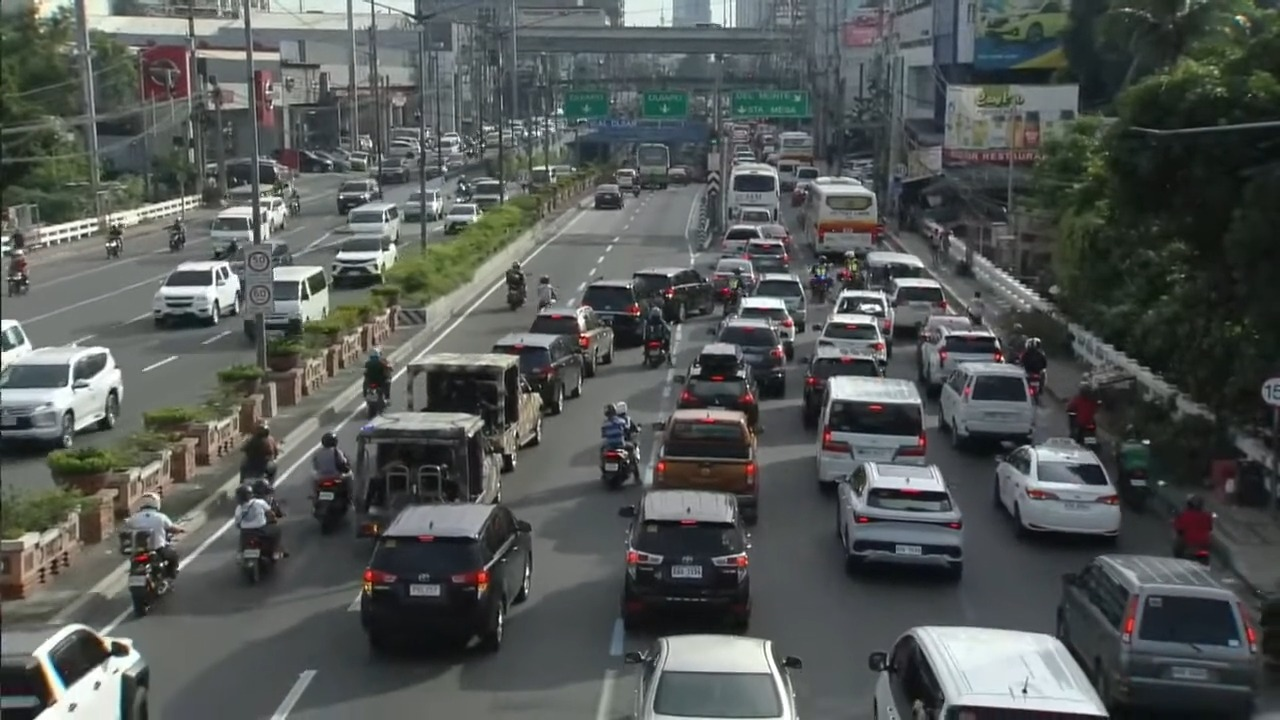bus: (799, 179, 882, 261), (725, 163, 779, 220), (636, 143, 670, 188), (777, 131, 814, 164)
car: (1056, 554, 1260, 718), (359, 503, 533, 651), (620, 489, 751, 630), (624, 634, 801, 719), (836, 462, 963, 578), (0, 623, 153, 719), (994, 437, 1121, 538), (0, 345, 123, 448), (939, 360, 1035, 449), (492, 332, 584, 414), (674, 343, 759, 427), (802, 347, 885, 427), (529, 305, 613, 376), (153, 261, 243, 327), (716, 318, 786, 397), (919, 328, 1004, 392), (579, 279, 654, 344), (633, 267, 716, 322), (730, 295, 796, 360), (812, 313, 890, 363), (982, 0, 1068, 44), (885, 277, 948, 333), (832, 289, 894, 341), (752, 273, 806, 332), (331, 236, 397, 284), (711, 256, 757, 301), (916, 313, 972, 348), (336, 179, 382, 216), (0, 318, 32, 370), (745, 239, 789, 273), (402, 188, 443, 221), (719, 224, 762, 255), (444, 203, 483, 233), (261, 195, 288, 232), (758, 222, 791, 251), (377, 157, 411, 183), (229, 245, 254, 280), (310, 150, 348, 171), (298, 150, 334, 172), (593, 184, 624, 209), (735, 206, 774, 224), (615, 168, 638, 191), (347, 150, 370, 171), (791, 181, 810, 206), (668, 166, 689, 184)
motorcycle: (119, 529, 172, 617), (1116, 439, 1151, 511), (237, 530, 277, 583), (312, 477, 349, 533), (1172, 531, 1210, 566), (601, 448, 631, 489), (1068, 412, 1098, 450), (364, 383, 387, 420), (643, 340, 667, 367), (1026, 371, 1044, 405), (809, 276, 830, 303), (723, 289, 741, 316), (506, 285, 525, 310), (8, 274, 28, 296), (213, 243, 238, 259), (168, 230, 185, 251), (105, 236, 121, 258), (966, 311, 983, 327), (537, 298, 555, 313), (287, 197, 300, 215), (633, 185, 640, 196)
truck: (352, 412, 501, 537), (406, 353, 543, 471), (652, 408, 759, 523)
